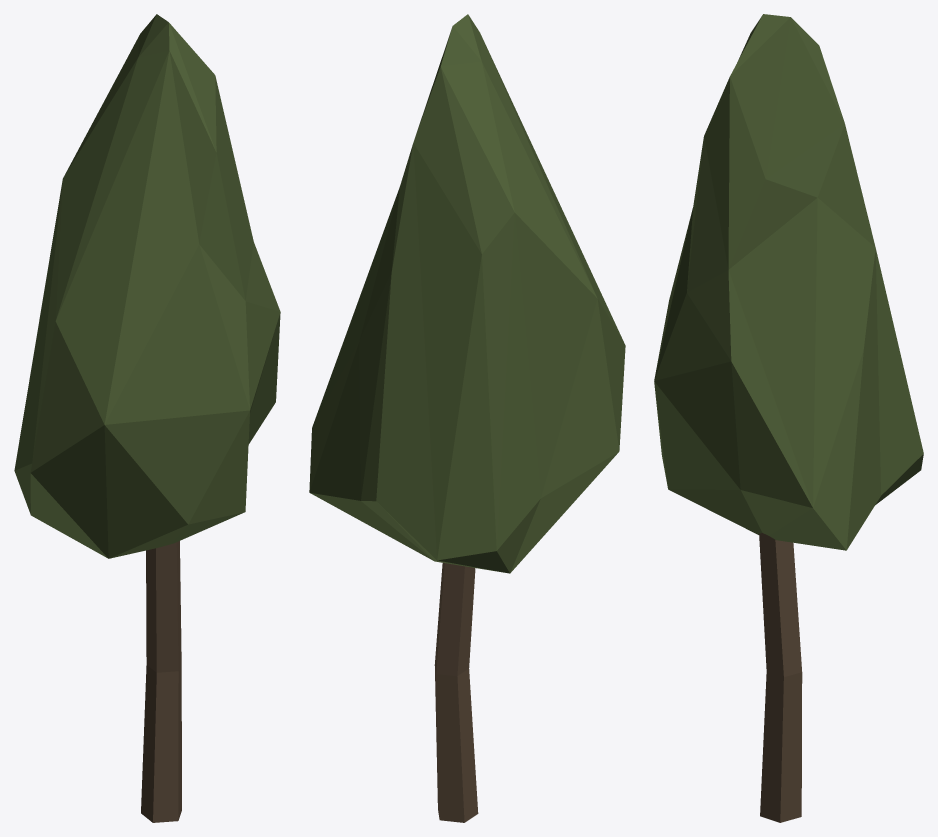
The model's file is Tree_075.fbx.
3 views of the same model, side by side, from view 1: azimuth 30°, elevation 25°; view 2: azimuth 150°, elevation 25°; view 3: azimuth 270°, elevation 25° (orthographic).
Visible parts, largest first — view 1: Tree_075; view 2: Tree_075; view 3: Tree_075.
Part boxes in pixels (<box>): Tree_075: <box>14,14,280,822</box>; Tree_075: <box>309,14,625,822</box>; Tree_075: <box>654,14,923,822</box>.
Bounding box in the file's own units: 0.5293 × 1.46 × 0.4464.
Materials: 1 (1 with a texture image).
